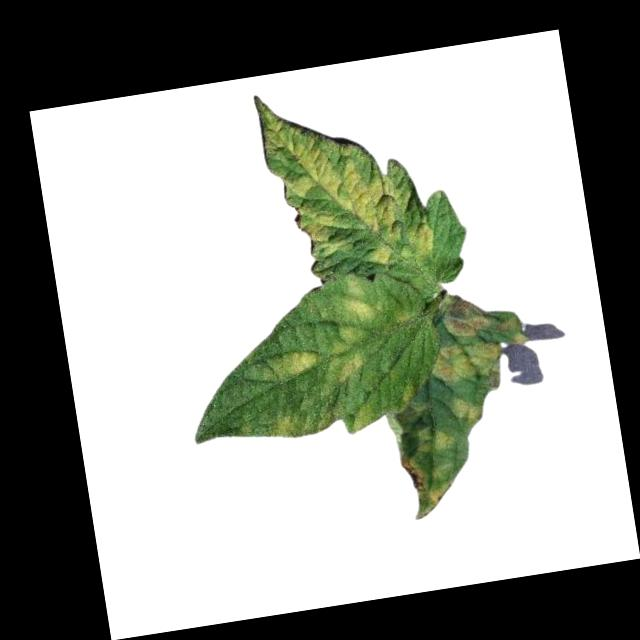Leaf_Mold: (253, 72, 434, 281), (427, 335, 508, 399), (399, 450, 461, 523), (440, 288, 493, 339), (339, 270, 379, 323), (327, 348, 376, 388), (345, 397, 381, 434), (416, 422, 456, 455), (328, 321, 370, 352), (280, 348, 318, 378), (453, 395, 486, 429), (274, 412, 298, 438)
